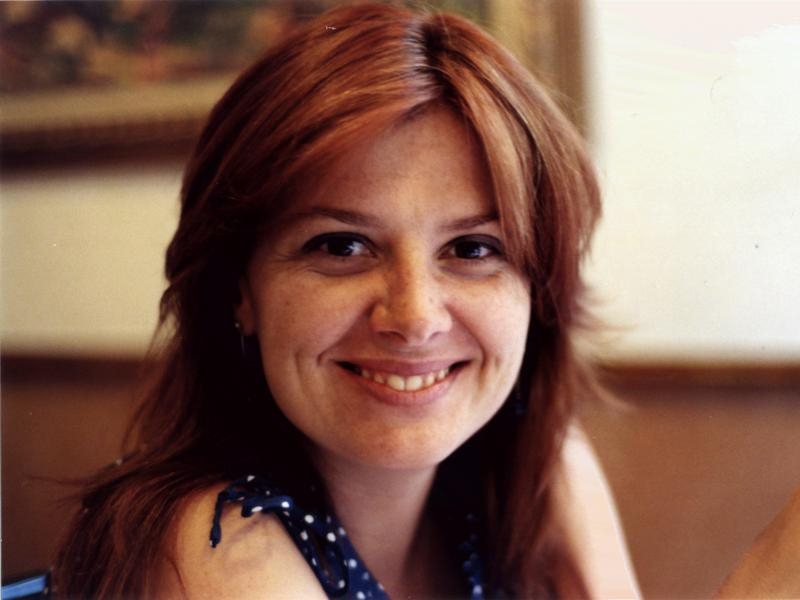person: (64, 13, 651, 600)
